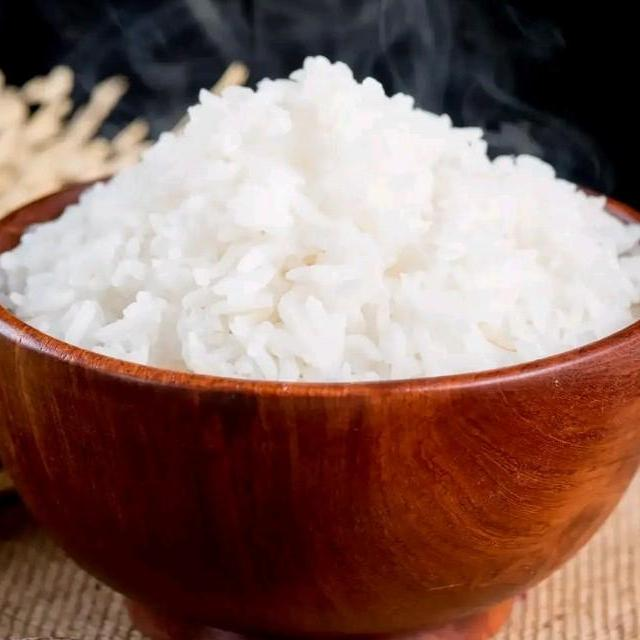com: (0, 47, 640, 393)
